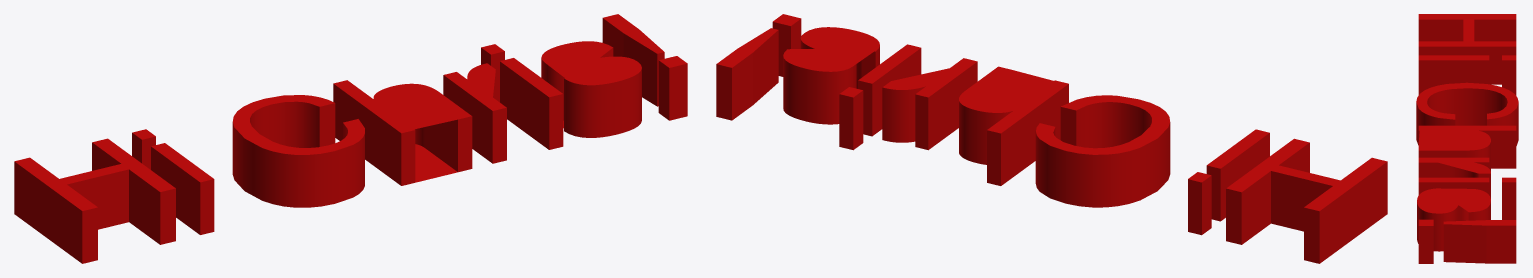
Rendered from Hi Chris.obj.
3 views of the same model, side by side, from view 1: azimuth 30°, elevation 25°; view 2: azimuth 150°, elevation 25°; view 3: azimuth 270°, elevation 25° (orthographic). The views are drawn at different scales.
Size of the model in its own units: 513 by 42.72 by 105.
